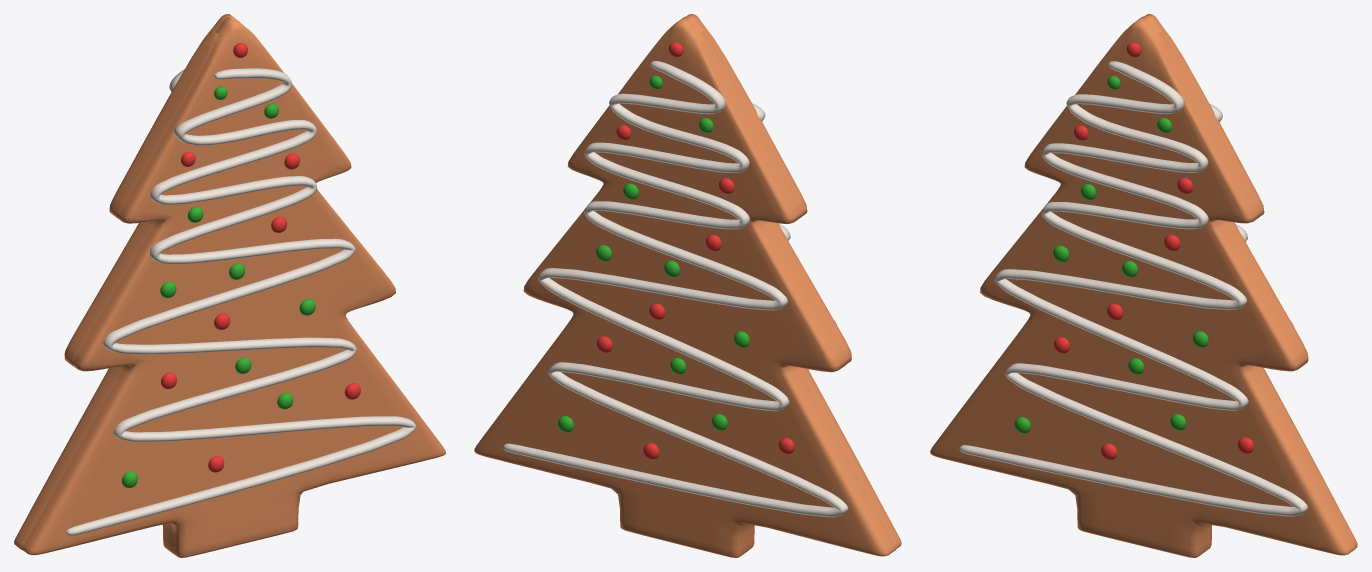
Rendered from cookie treee.fbx.
3 renders of one model, left to right at view 1: azimuth 30°, elevation 25°; view 2: azimuth 150°, elevation 25°; view 3: azimuth 330°, elevation 25°, orthographic.
Visible parts, largest first — view 1: GingerbreadTree, Frosting GingerbreadTree, GingerbreadTree.001; view 2: GingerbreadTree.001, Frosting GingerbreadTree.001, GingerbreadTree; view 3: GingerbreadTree, Frosting GingerbreadTree, GingerbreadTree.001.
Part boxes in pixels (x1,y1,x2,y2): GingerbreadTree: (22, 17, 445, 557); Frosting GingerbreadTree: (66, 43, 416, 535); GingerbreadTree.001: (14, 14, 242, 553); GingerbreadTree.001: (474, 16, 896, 557); Frosting GingerbreadTree.001: (503, 42, 848, 517); GingerbreadTree: (685, 14, 901, 549); GingerbreadTree: (930, 16, 1355, 557); Frosting GingerbreadTree: (959, 42, 1307, 516); GingerbreadTree.001: (1143, 14, 1357, 550).
Bounding box in the file's own units: 396 × 471 × 50.56.
